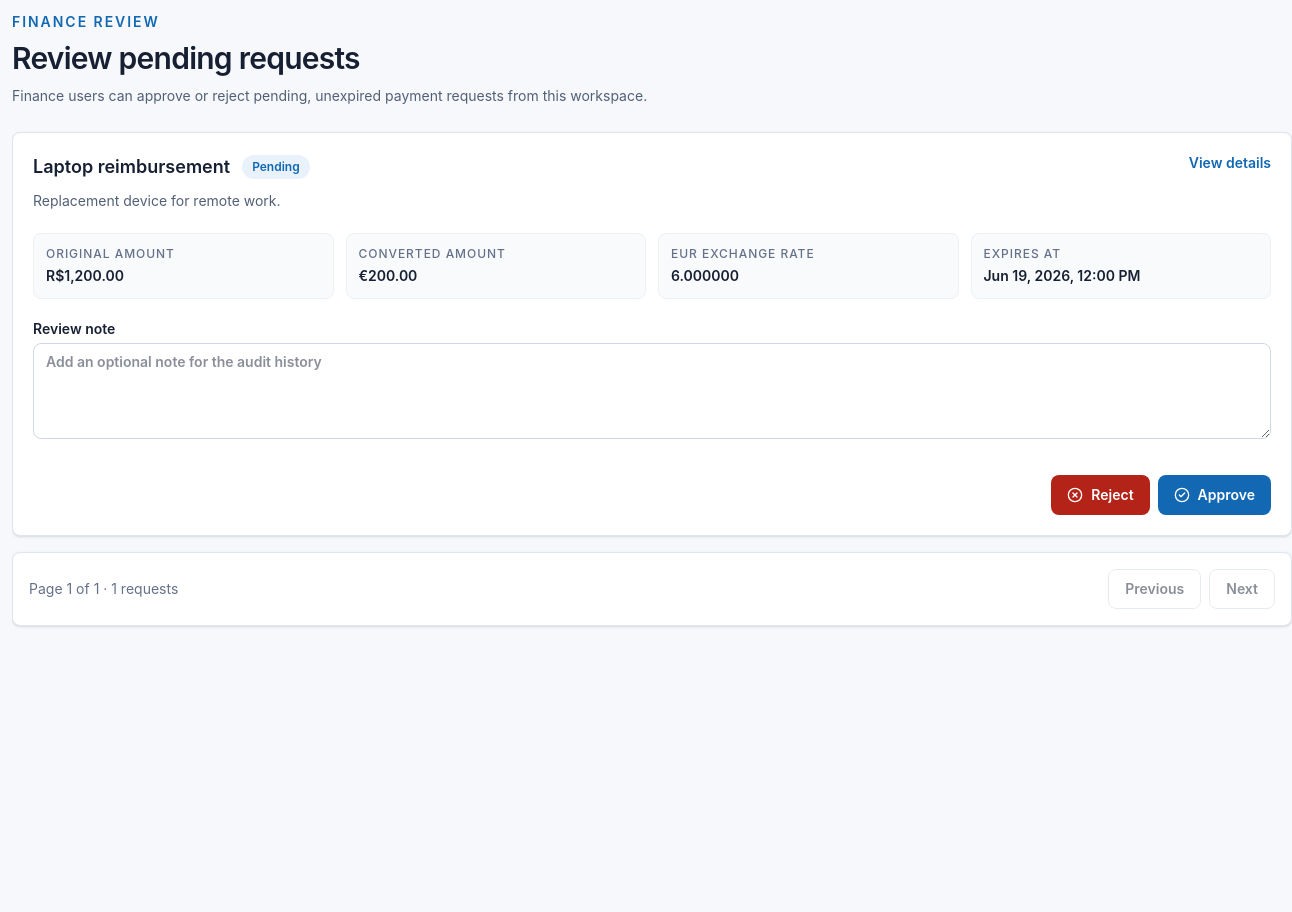
Test: FinanceReviewPage › approves a pending payment request with an optional review note
Type "Approved for replacement." into the text box labelled "Review note" at {"x": 652, "y": 391}, box [33,343,1271,439]
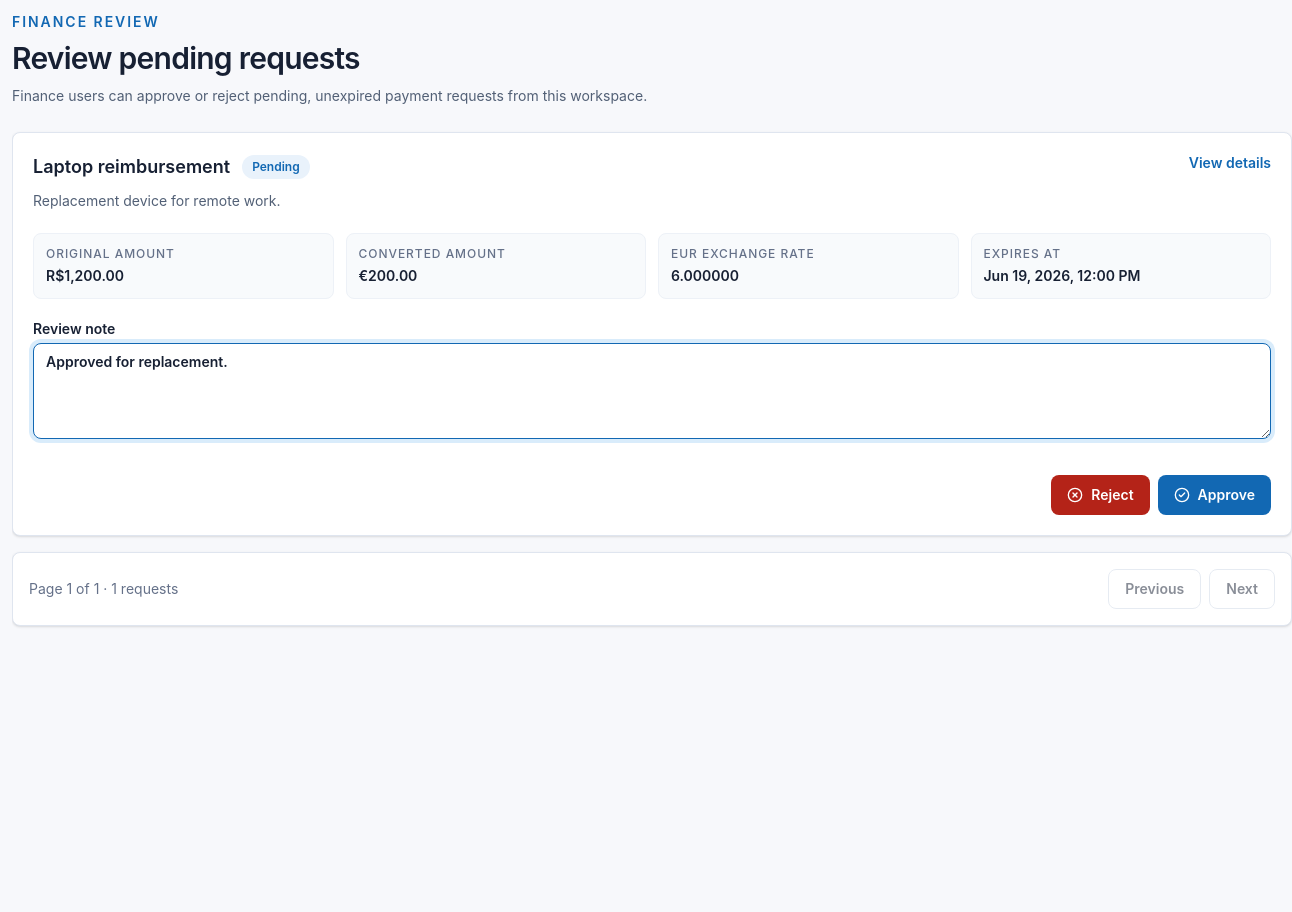
Click the button "Approve" at {"x": 1214, "y": 495}, box [1158,475,1271,515]
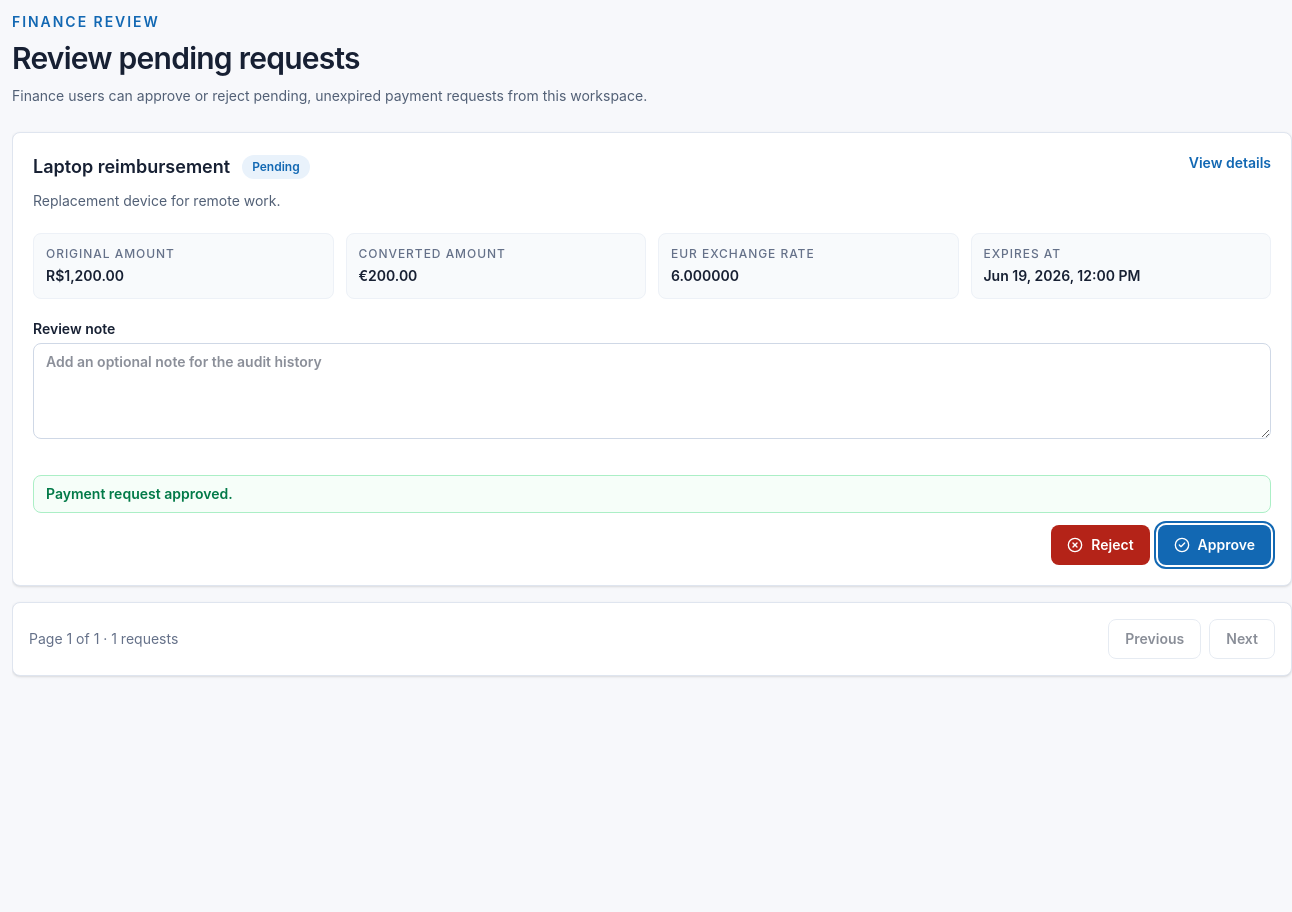
Now the text "Payment request approved." is shown, box [33,475,1271,513]
